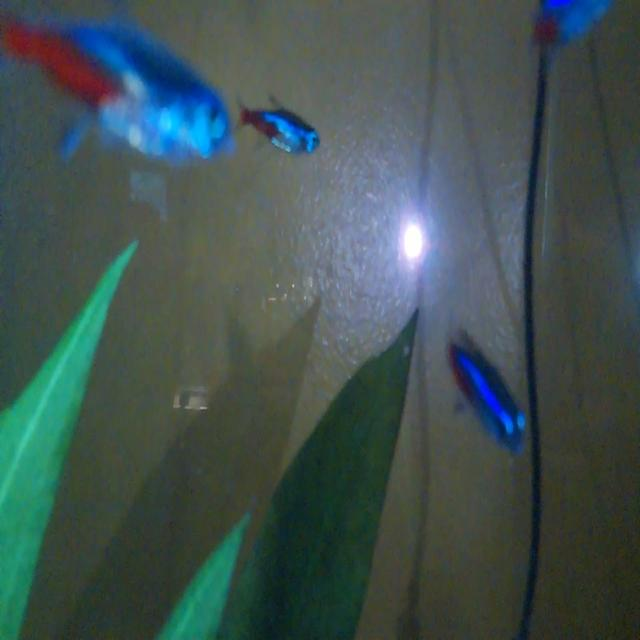fish: (3, 8, 238, 172), (437, 325, 528, 458), (232, 87, 324, 165)
